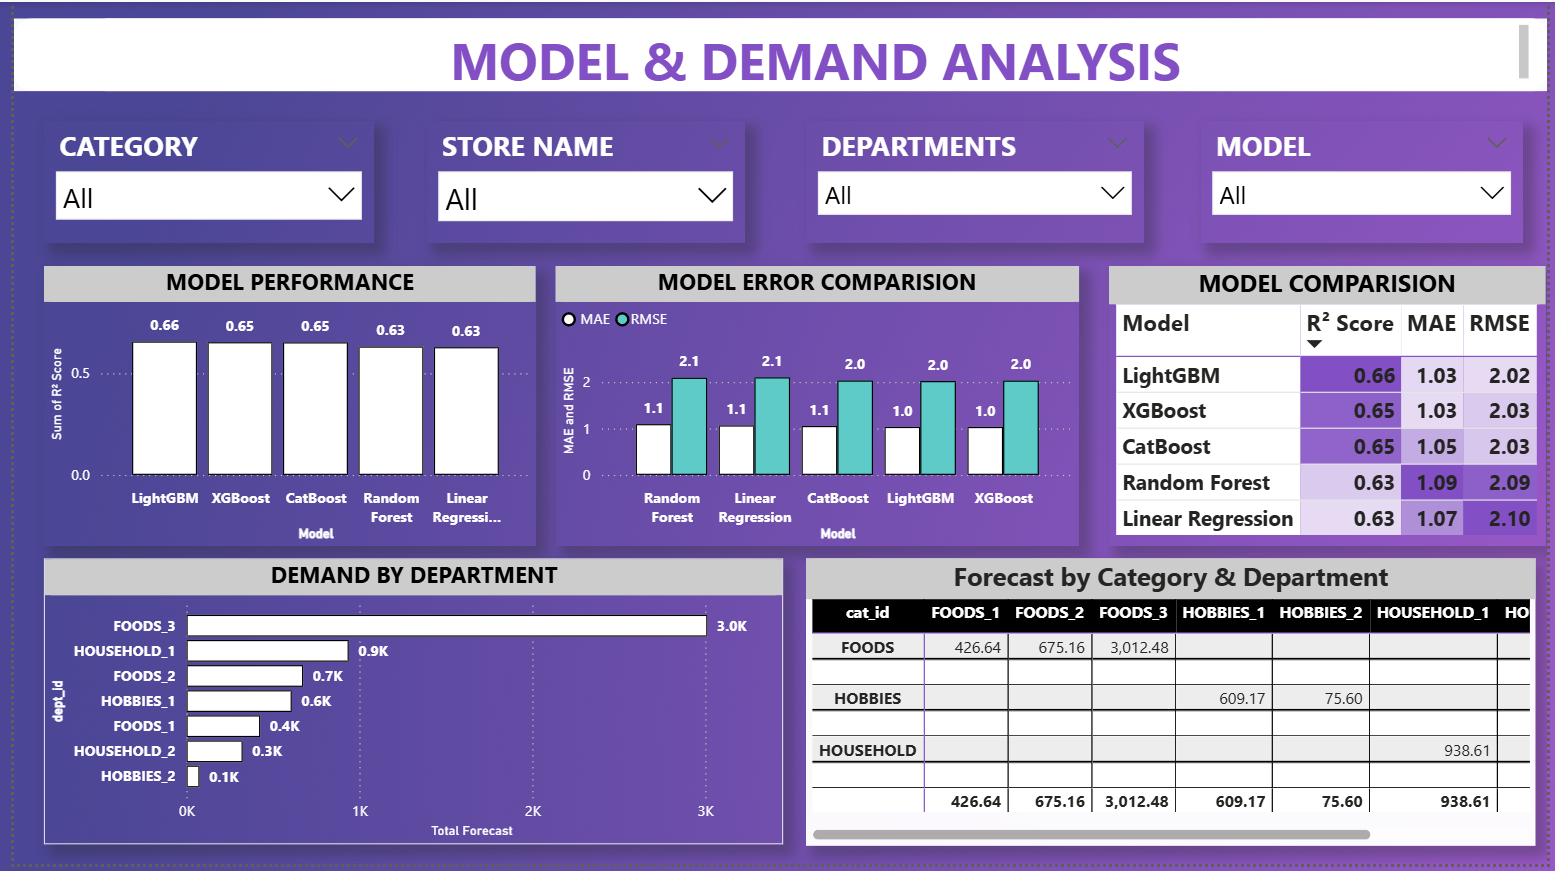

The page's visual inventory and layout, read from the dashboard file:
{"tool":"powerbi","page":{"name":"Model & Demand Analysis","canvas":[1280,720],"ordinal":1},"visuals":[{"type":"shape","box":[0,13.7,1280.4,60.4],"z":0},{"type":"textbox","box":[76.9,13.7,1193.9,60.4],"z":1000},{"type":"slicer","fields":{"Values":["dashboard_data.cat_id"]},"box":[25.2,99.2,275.6,102.4],"z":2000},{"type":"slicer","fields":{"Values":["dashboard_data.store_id"]},"box":[344.9,99.2,266.2,102.4],"z":3000},{"type":"slicer","fields":{"Values":["dashboard_data.dept_id"]},"box":[661.5,99.2,281.9,102.4],"z":4000},{"type":"slicer","fields":{"Values":["model_comparison.Model"]},"box":[990.7,99.2,269.3,102.4],"z":5000},{"type":"clusteredColumnChart","title":"MODEL PERFORMANCE","fields":{"Category":["model_comparison.Model"],"Y":["Sum(model_comparison.R² Score)"]},"box":[24.8,220.2,411,234.2],"z":6000},{"type":"clusteredColumnChart","title":"MODEL ERROR COMPARISION","fields":{"Category":["model_comparison.Model"],"Y":["Sum(model_comparison.MAE)","Sum(model_comparison.RMSE)"]},"box":[452.9,220.2,437.4,234.2],"z":7000},{"type":"tableEx","title":"MODEL COMPARISION","fields":{"Values":["model_comparison.Model","Sum(model_comparison.R² Score)","Sum(model_comparison.MAE)","Sum(model_comparison.RMSE)"]},"box":[915,220.2,364.5,234.2],"z":8000},{"type":"clusteredBarChart","title":"DEMAND BY DEPARTMENT","fields":{"Category":["dashboard_data.dept_id"],"Y":["dashboard_data.Total Forecast"]},"box":[24.8,465.3,617.3,238.8],"z":9000},{"type":"pivotTable","title":"Forecast by Category & Department","fields":{"Rows":["dashboard_data.cat_id"],"Columns":["dashboard_data.dept_id"],"Values":["dashboard_data.Total Forecast"]},"box":[661.2,464.6,609.6,240.3],"z":9001}]}

Visuals, with their boxes in screenshot pixels (x1, y1, x2, y2), scaled from the page's 1280x720 canvas onto the 1555x871 screenshot:
shape: [left=0, top=17, right=1554, bottom=90]
textbox: [left=93, top=17, right=1544, bottom=90]
slicer - dashboard_data.cat_id: [left=31, top=120, right=365, bottom=244]
slicer - dashboard_data.store_id: [left=419, top=120, right=742, bottom=244]
slicer - dashboard_data.dept_id: [left=804, top=120, right=1146, bottom=244]
slicer - model_comparison.Model: [left=1204, top=120, right=1531, bottom=244]
"MODEL PERFORMANCE" clusteredColumnChart: [left=30, top=266, right=529, bottom=550]
"MODEL ERROR COMPARISION" clusteredColumnChart: [left=550, top=266, right=1082, bottom=550]
"MODEL COMPARISION" tableEx: [left=1112, top=266, right=1554, bottom=550]
"DEMAND BY DEPARTMENT" clusteredBarChart: [left=30, top=563, right=780, bottom=852]
"Forecast by Category & Department" pivotTable: [left=803, top=562, right=1544, bottom=853]
